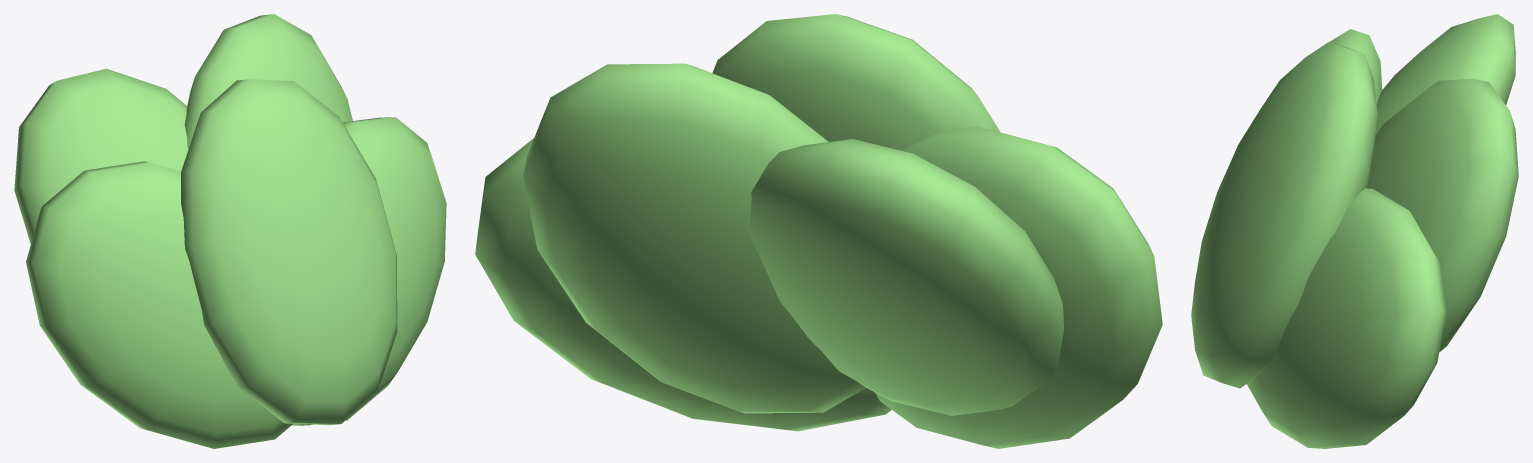
Rendered from shrub.glb.
The picture shows the model from 3 angles, left to right: view 1: azimuth 30°, elevation 25°; view 2: azimuth 150°, elevation 25°; view 3: azimuth 270°, elevation 25°; orthographic projection. The views are drawn at different scales.
Parts seen in each view (by area): view 1: Leaf.001, Leaf.000, Leaf.004, Leaf.002, Leaf.003; view 2: Leaf.003, Leaf.004, Leaf.000, Leaf.001, Leaf.002; view 3: Leaf.001, Leaf.002, Leaf.003, Leaf.004, Leaf.000.
Part boxes in pixels (left/top/right/bottom): Leaf.001: left=181, top=79, right=397, bottom=425; Leaf.000: left=26, top=161, right=292, bottom=448; Leaf.004: left=14, top=68, right=188, bottom=244; Leaf.002: left=292, top=117, right=446, bottom=425; Leaf.003: left=184, top=14, right=352, bottom=149; Leaf.003: left=523, top=63, right=865, bottom=413; Leaf.004: left=749, top=139, right=1063, bottom=415; Leaf.000: left=875, top=126, right=1162, bottom=448; Leaf.001: left=712, top=14, right=1000, bottom=150; Leaf.002: left=475, top=138, right=891, bottom=431; Leaf.001: left=1191, top=42, right=1377, bottom=388; Leaf.002: left=1247, top=188, right=1446, bottom=448; Leaf.003: left=1367, top=78, right=1518, bottom=351; Leaf.004: left=1375, top=14, right=1515, bottom=134; Leaf.000: left=1330, top=29, right=1382, bottom=104.
Bounding box in the file's own units: 1.86 × 1.33 × 1.13.
